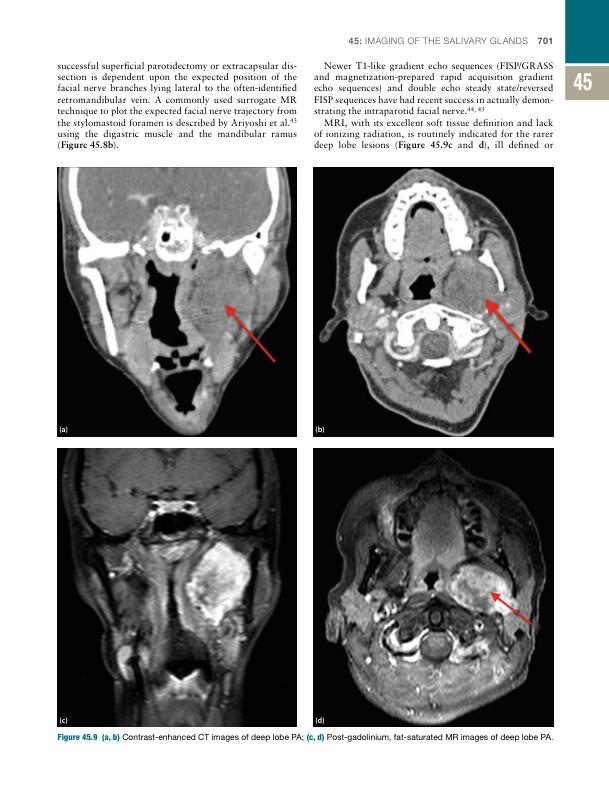caption: (57, 731, 554, 744), (315, 717, 325, 725), (59, 426, 68, 434), (316, 425, 325, 433), (59, 717, 68, 725)
header: (347, 34, 531, 45)
image: (56, 447, 297, 727), (313, 447, 554, 726), (312, 166, 554, 437), (56, 167, 297, 436)
text: (311, 58, 555, 151), (56, 59, 298, 151)
